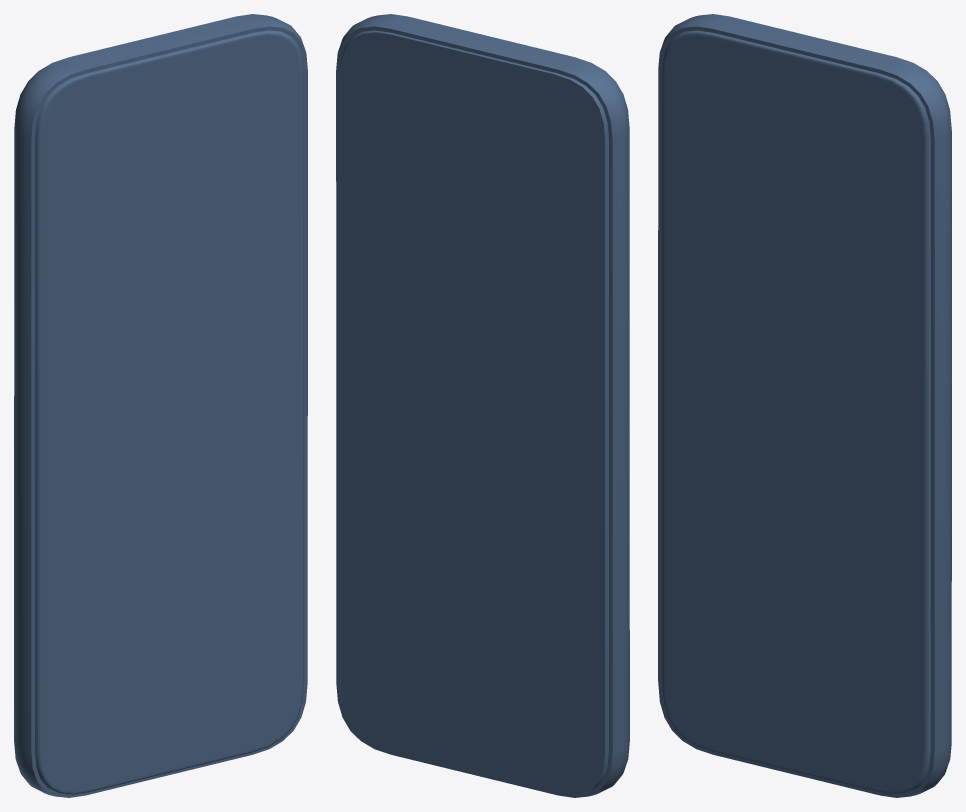
The model's file is PumpkinPhone.FBX.
3 renders of one model, left to right at view 1: azimuth 30°, elevation 25°; view 2: azimuth 150°, elevation 25°; view 3: azimuth 330°, elevation 25°, orthographic.
Visible parts, largest first — view 1: 12_EL_Phone_003, 12_EL_Phone_0; view 2: 12_EL_Phone_0; view 3: 12_EL_Phone_003, 12_EL_Phone_0.
Boxes of the visible parts, box(x1,y1,x2,y2) form: 12_EL_Phone_003: box(35, 30, 303, 794); 12_EL_Phone_0: box(14, 14, 307, 797); 12_EL_Phone_0: box(336, 14, 629, 797); 12_EL_Phone_003: box(662, 30, 930, 794); 12_EL_Phone_0: box(658, 14, 951, 797).
Bounding box in the file's own units: 3.12 × 7.54 × 0.3926.
